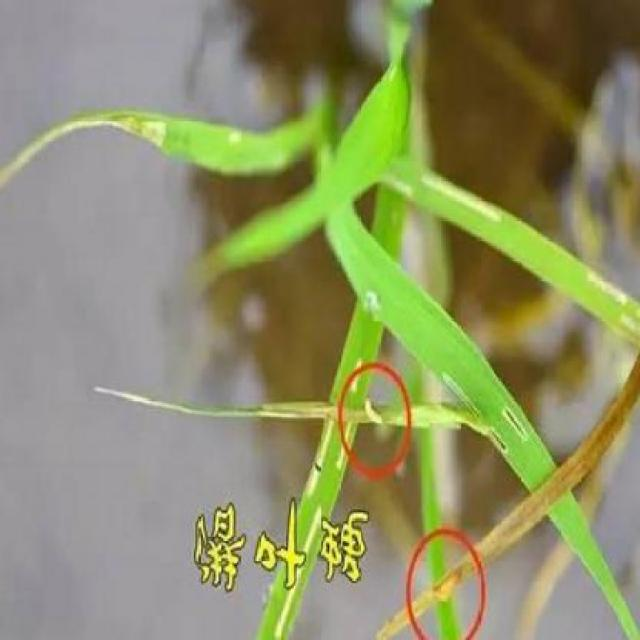whorl-maggot: (363, 391, 385, 432)
